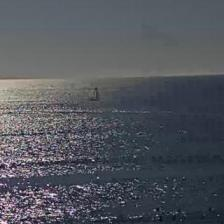surfer: (201, 214, 208, 220), (155, 206, 160, 212), (156, 216, 162, 221), (172, 216, 176, 220), (209, 207, 212, 211)
